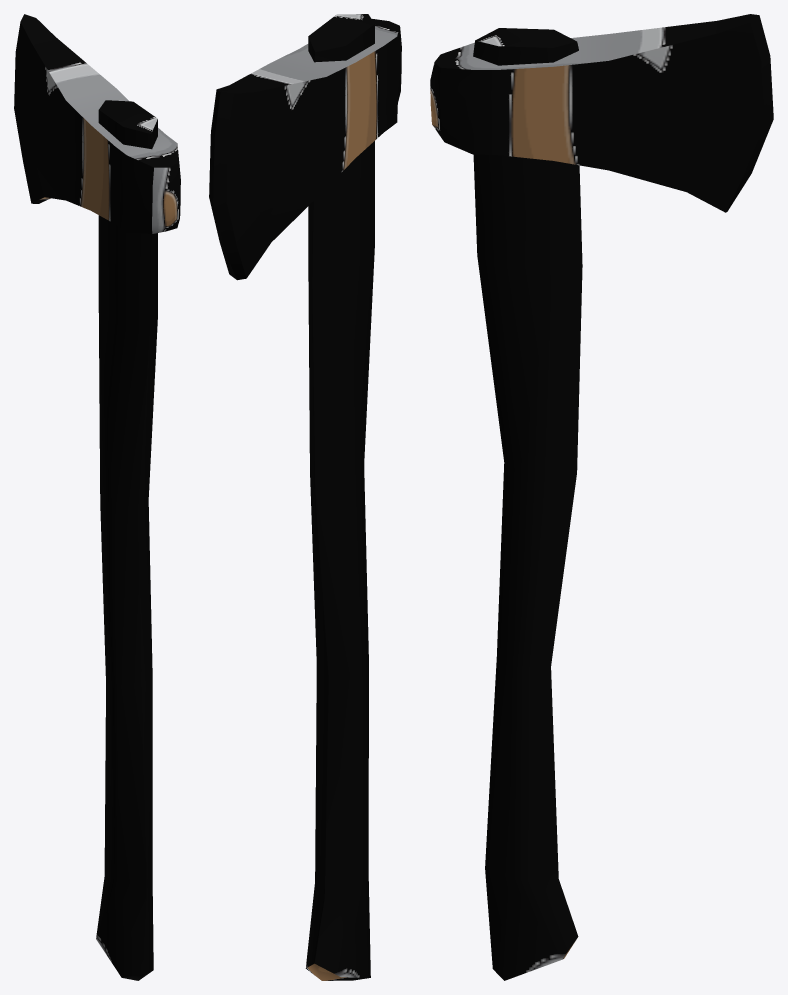
File: Axe.fbx
3 renders of one model, left to right at view 1: azimuth 30°, elevation 25°; view 2: azimuth 150°, elevation 25°; view 3: azimuth 270°, elevation 25°, orthographic. The views are drawn at different scales.
Visible parts, largest first — view 1: polySurface1; view 2: polySurface1; view 3: polySurface1.
Part boxes in pixels (box(x1,y1,x2,y2)): polySurface1: box(14, 14, 180, 980); polySurface1: box(209, 14, 401, 980); polySurface1: box(430, 14, 773, 980).
Size of the model in its own units: 0.5761 by 9.39 by 3.03.
